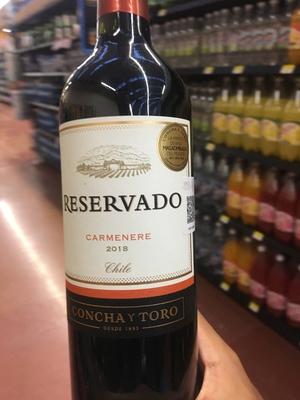reservado carmenere: (55, 1, 206, 400)
